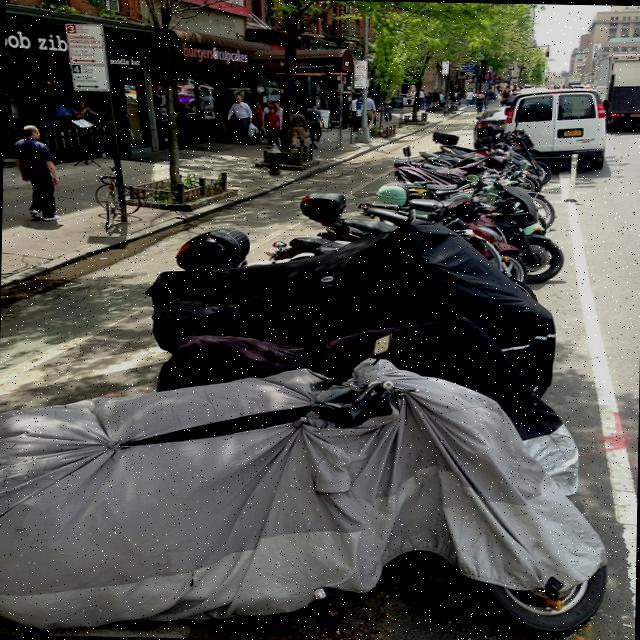fire_hydrant: (264, 141, 282, 174)
